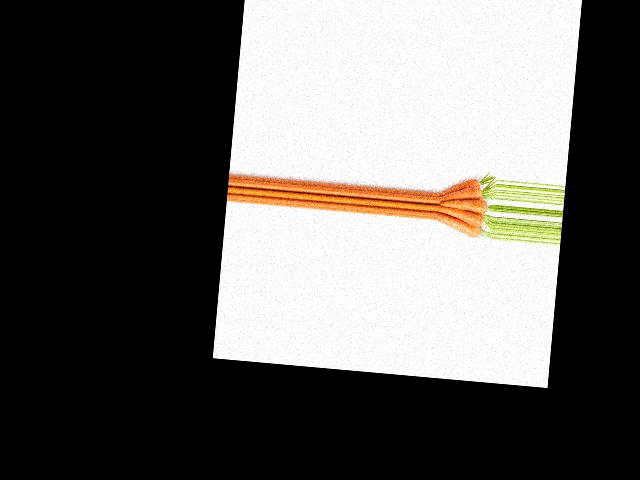carrot: (439, 171, 481, 199)
